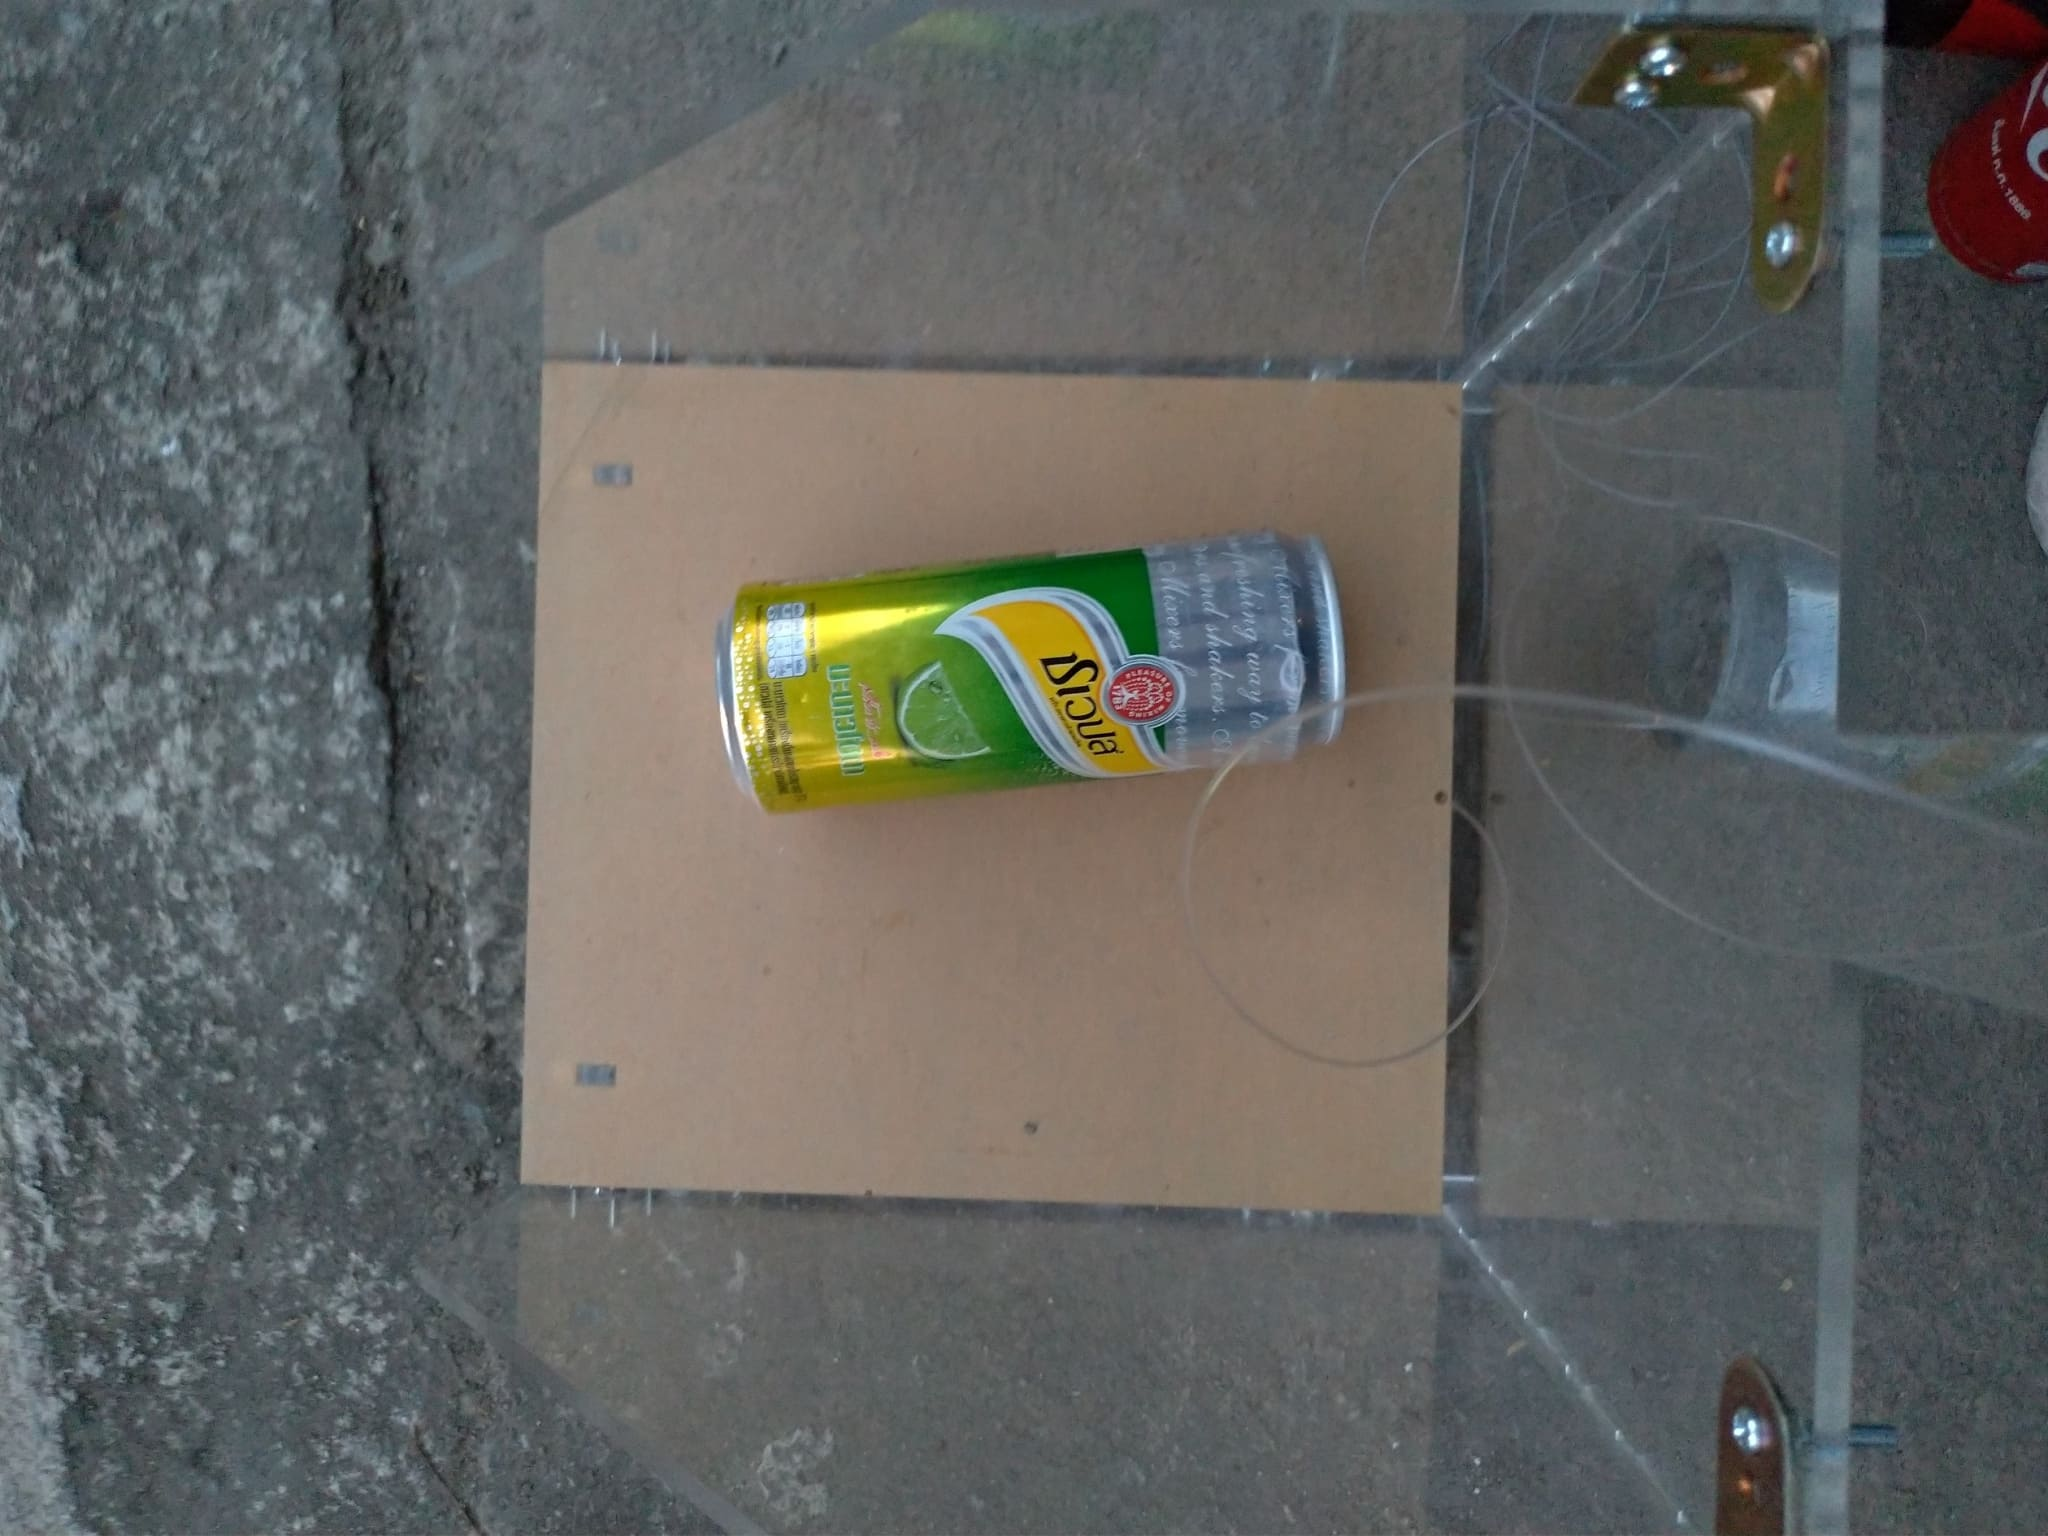AlCan: (722, 526, 1356, 812), (1929, 65, 2048, 253)
